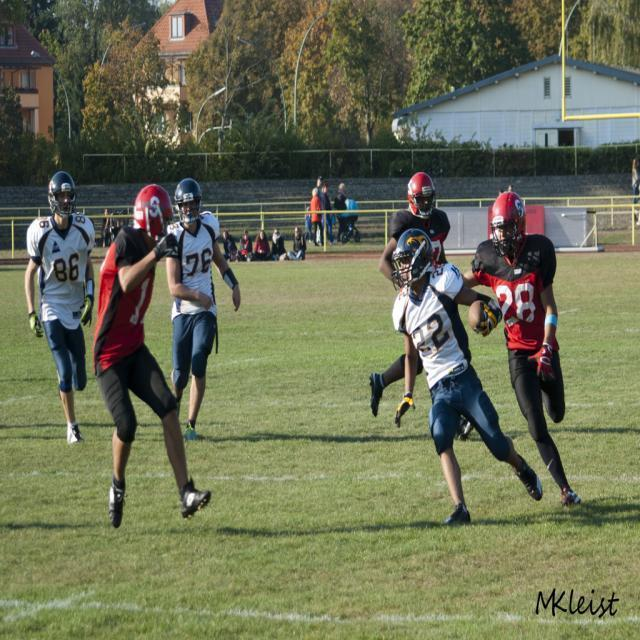ball: (469, 297, 488, 334)
